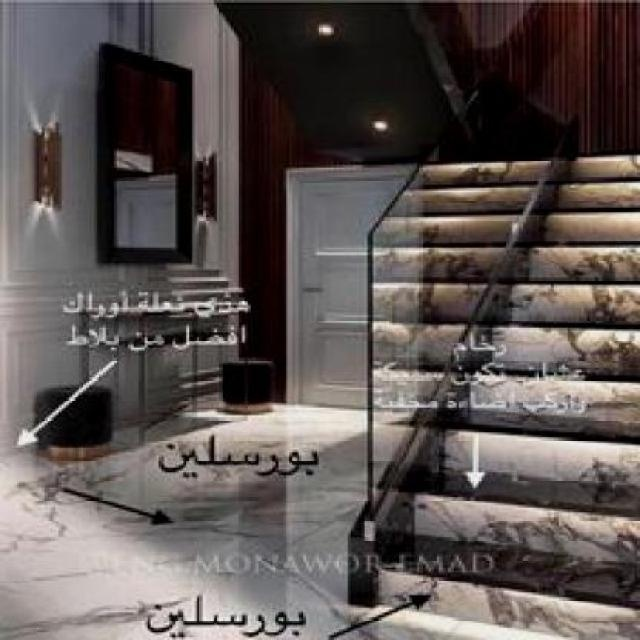stair: (324, 121, 639, 616)
